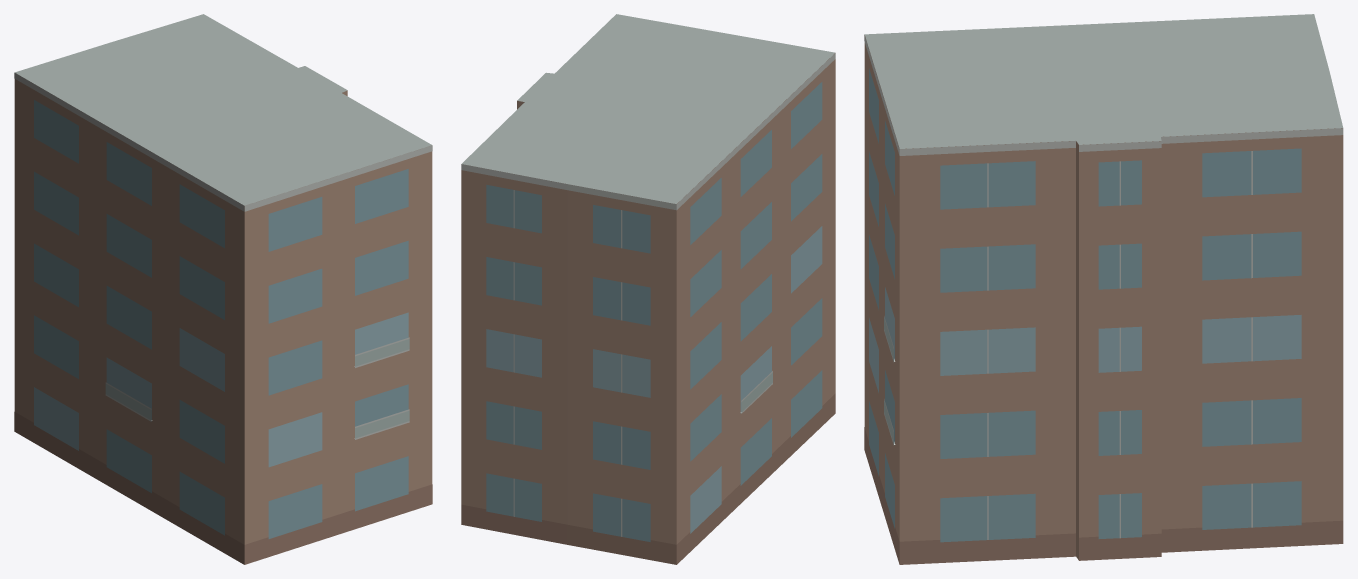
The model's file is survey-upis-32736688.glb.
3 views of the same model, side by side, from view 1: azimuth 30°, elevation 25°; view 2: azimuth 150°, elevation 25°; view 3: azimuth 270°, elevation 25° (orthographic). The views are drawn at different scales.
Visible parts, largest first — view 1: survey-upis-32736688.tmp; view 2: survey-upis-32736688.tmp; view 3: survey-upis-32736688.tmp.
Boxes of the visible parts, box(x1,y1,x2,y2) form: survey-upis-32736688.tmp: box(14, 14, 432, 564); survey-upis-32736688.tmp: box(461, 14, 835, 564); survey-upis-32736688.tmp: box(864, 14, 1343, 564).
Bounding box in the file's own units: 10.04 × 14.4 × 15.04.
